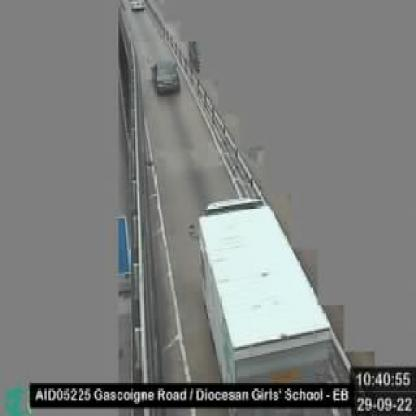Car: (146, 52, 183, 97)
Truck: (184, 187, 332, 383)
